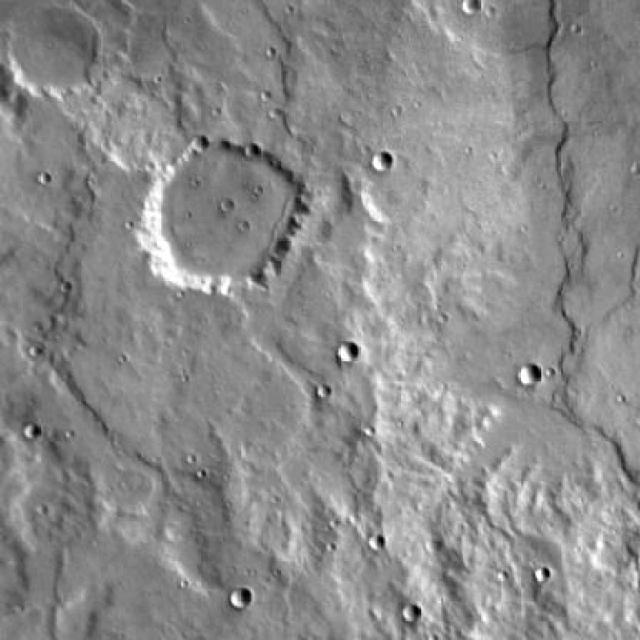crater: (142, 146, 303, 300), (9, 9, 94, 94), (338, 343, 360, 365), (520, 365, 542, 386), (228, 589, 250, 609), (372, 152, 392, 171), (370, 536, 387, 552), (404, 605, 422, 620)
